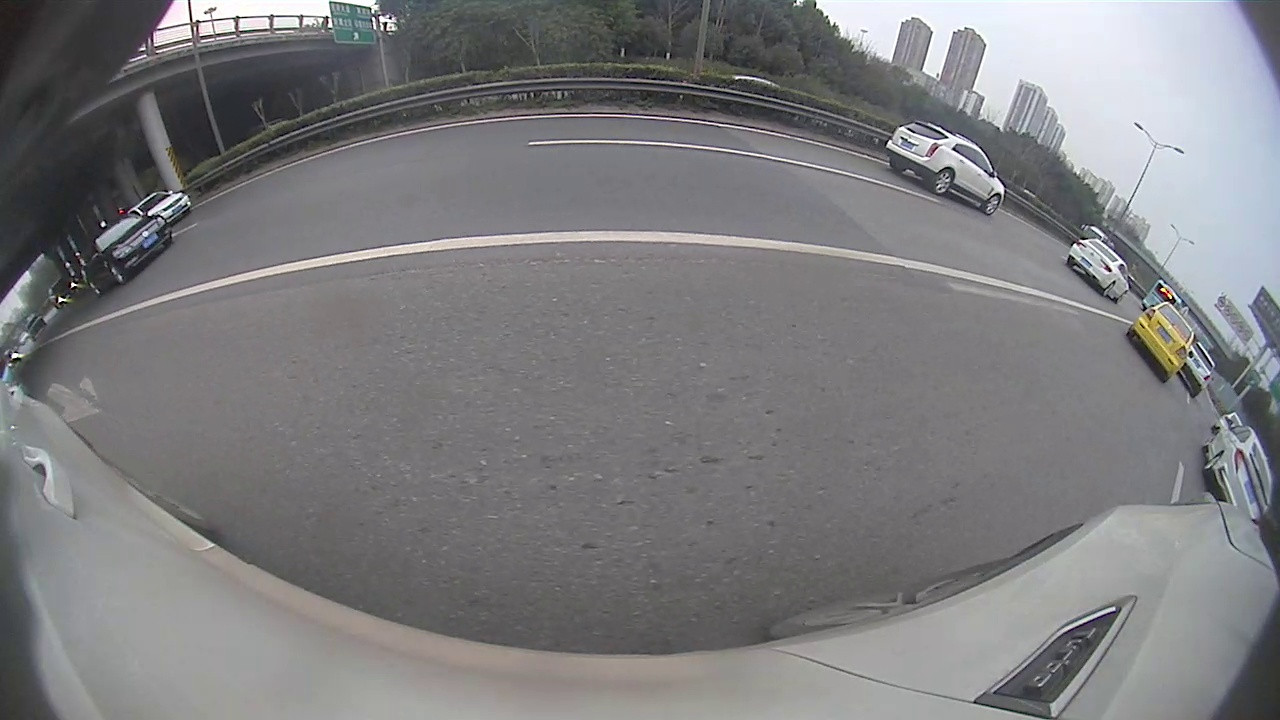car: (886, 120, 1002, 214), (1202, 424, 1272, 528), (82, 216, 171, 294), (1131, 299, 1196, 383), (1067, 237, 1129, 302)
front: (983, 192, 1000, 219), (106, 264, 125, 288)
rear: (930, 169, 954, 197), (1202, 453, 1222, 474), (1101, 280, 1117, 300), (88, 281, 102, 300)
